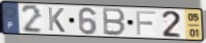2: (20, 3, 45, 35), (161, 10, 183, 39)
6: (77, 6, 98, 36)
B: (102, 7, 127, 38)
F: (135, 10, 158, 37)
K: (46, 6, 66, 34)
